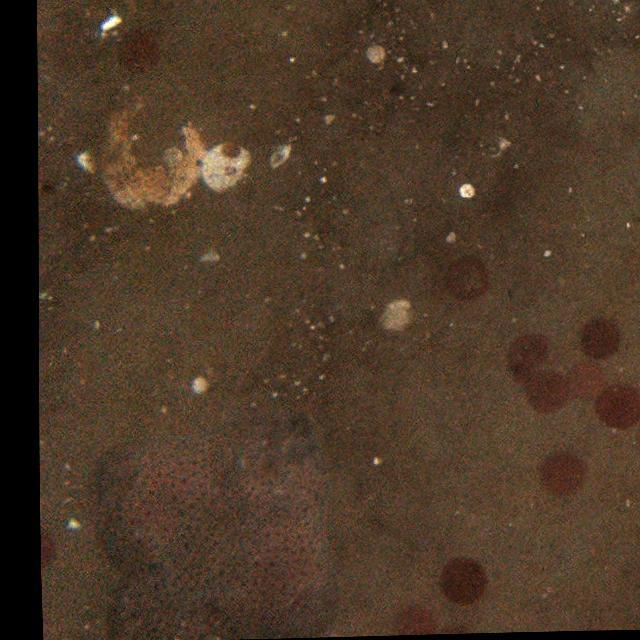skate: (108, 422, 348, 640)
